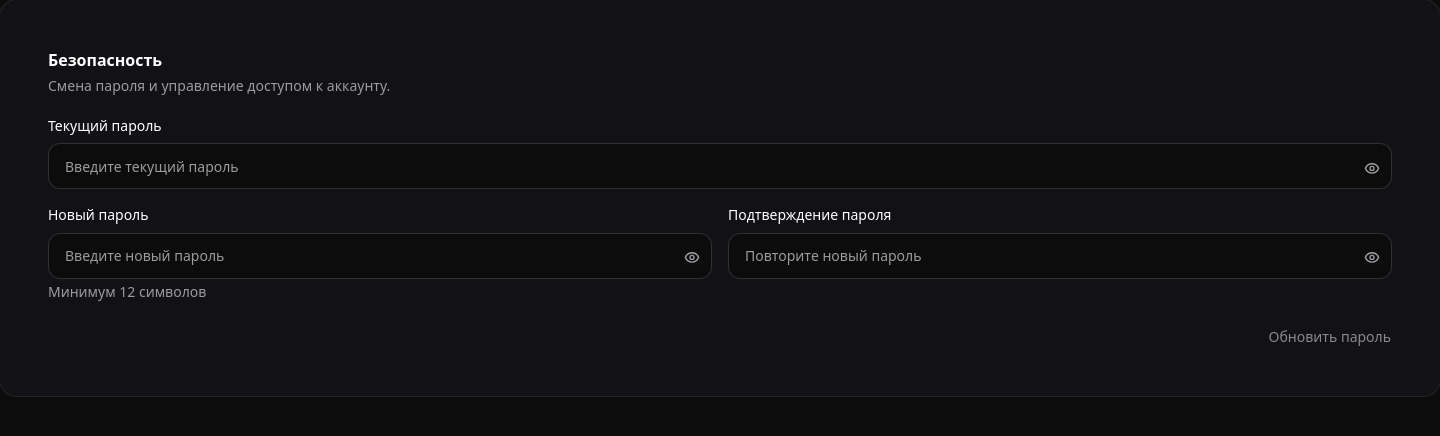
Test: ChangePasswordSection › обрабатывает 401 ошибку (неверный текущий пароль)
Type "WrongPassword123!" into the password field with placeholder "Введите текущий пароль" at (720, 166), box x1=48 y1=143 x2=1392 y2=189
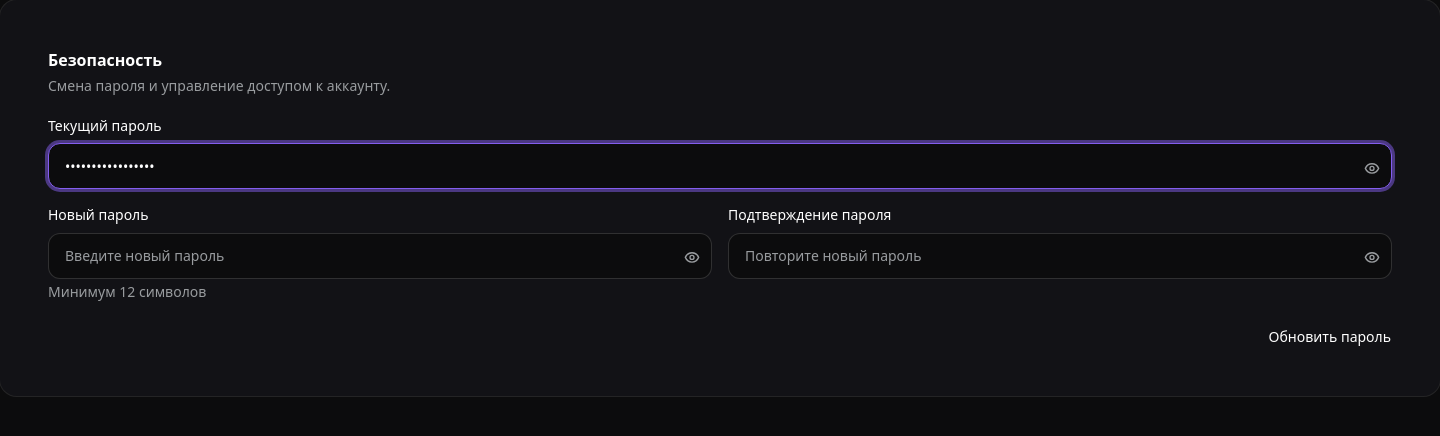
Type "NewSecurePassword123!" into the password field with placeholder "Введите новый пароль" at (380, 256), box x1=48 y1=232 x2=712 y2=278
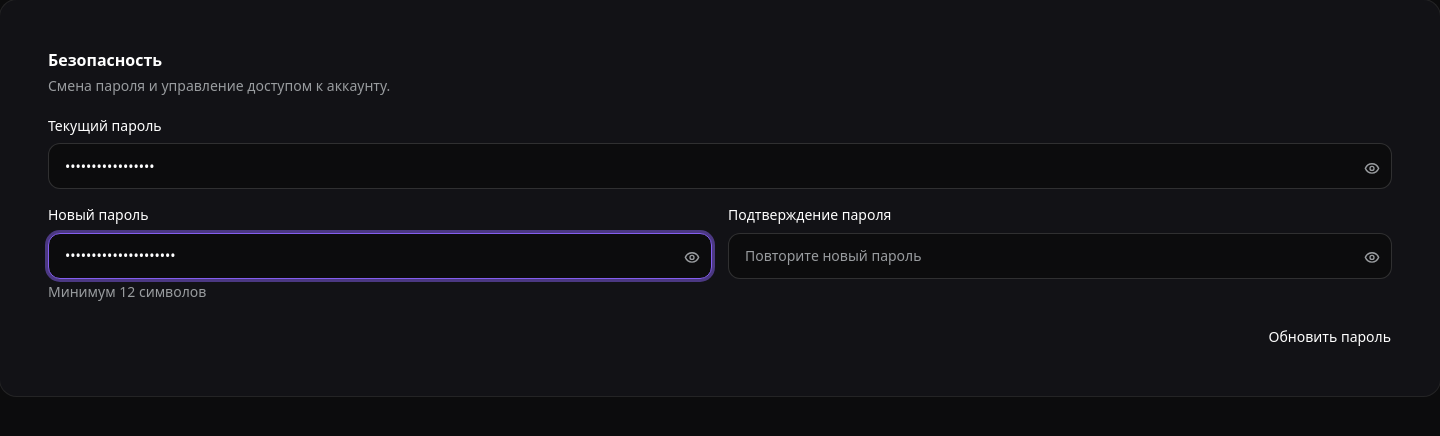
Type "NewSecurePassword123!" into the password field with placeholder "Повторите новый пароль" at (1060, 256), box x1=728 y1=232 x2=1392 y2=278
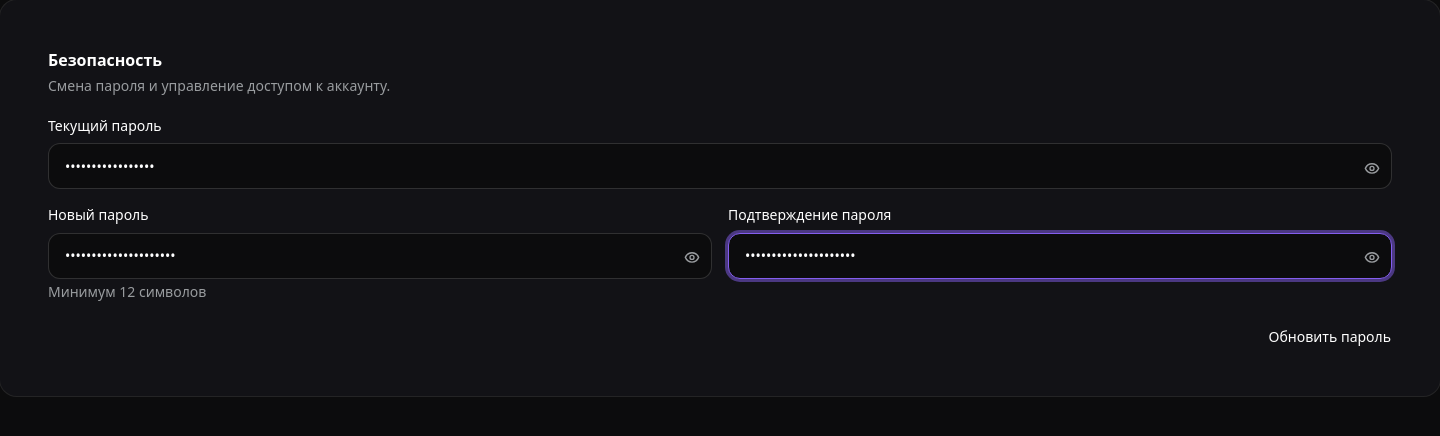
Click the button "Обновить пароль" at (1330, 336), box x1=1268 y1=326 x2=1392 y2=348
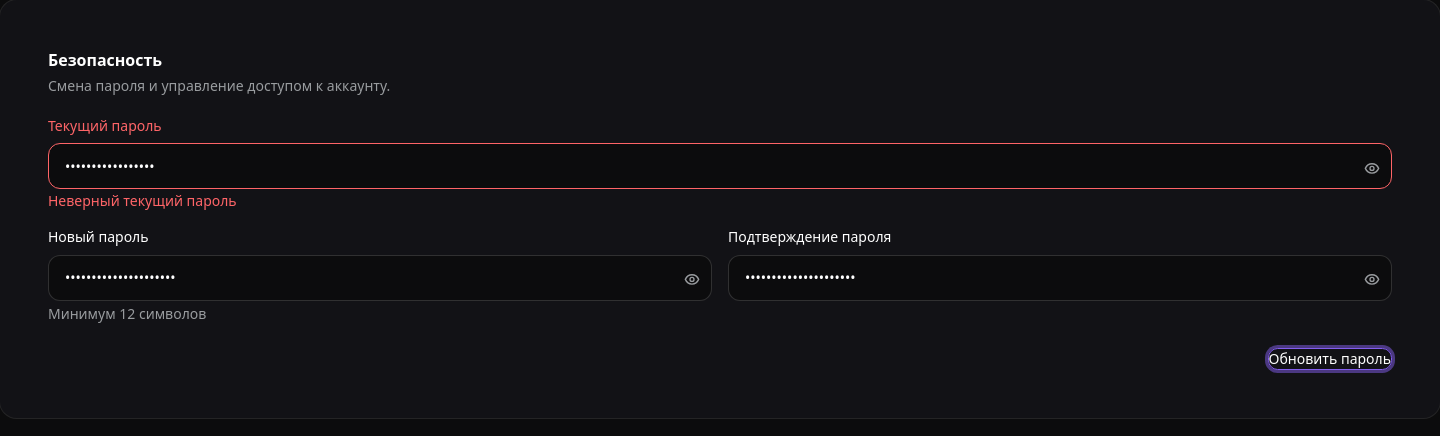
expect the text "Неверный текущий пароль" is shown: met, box x1=48 y1=191 x2=237 y2=210
